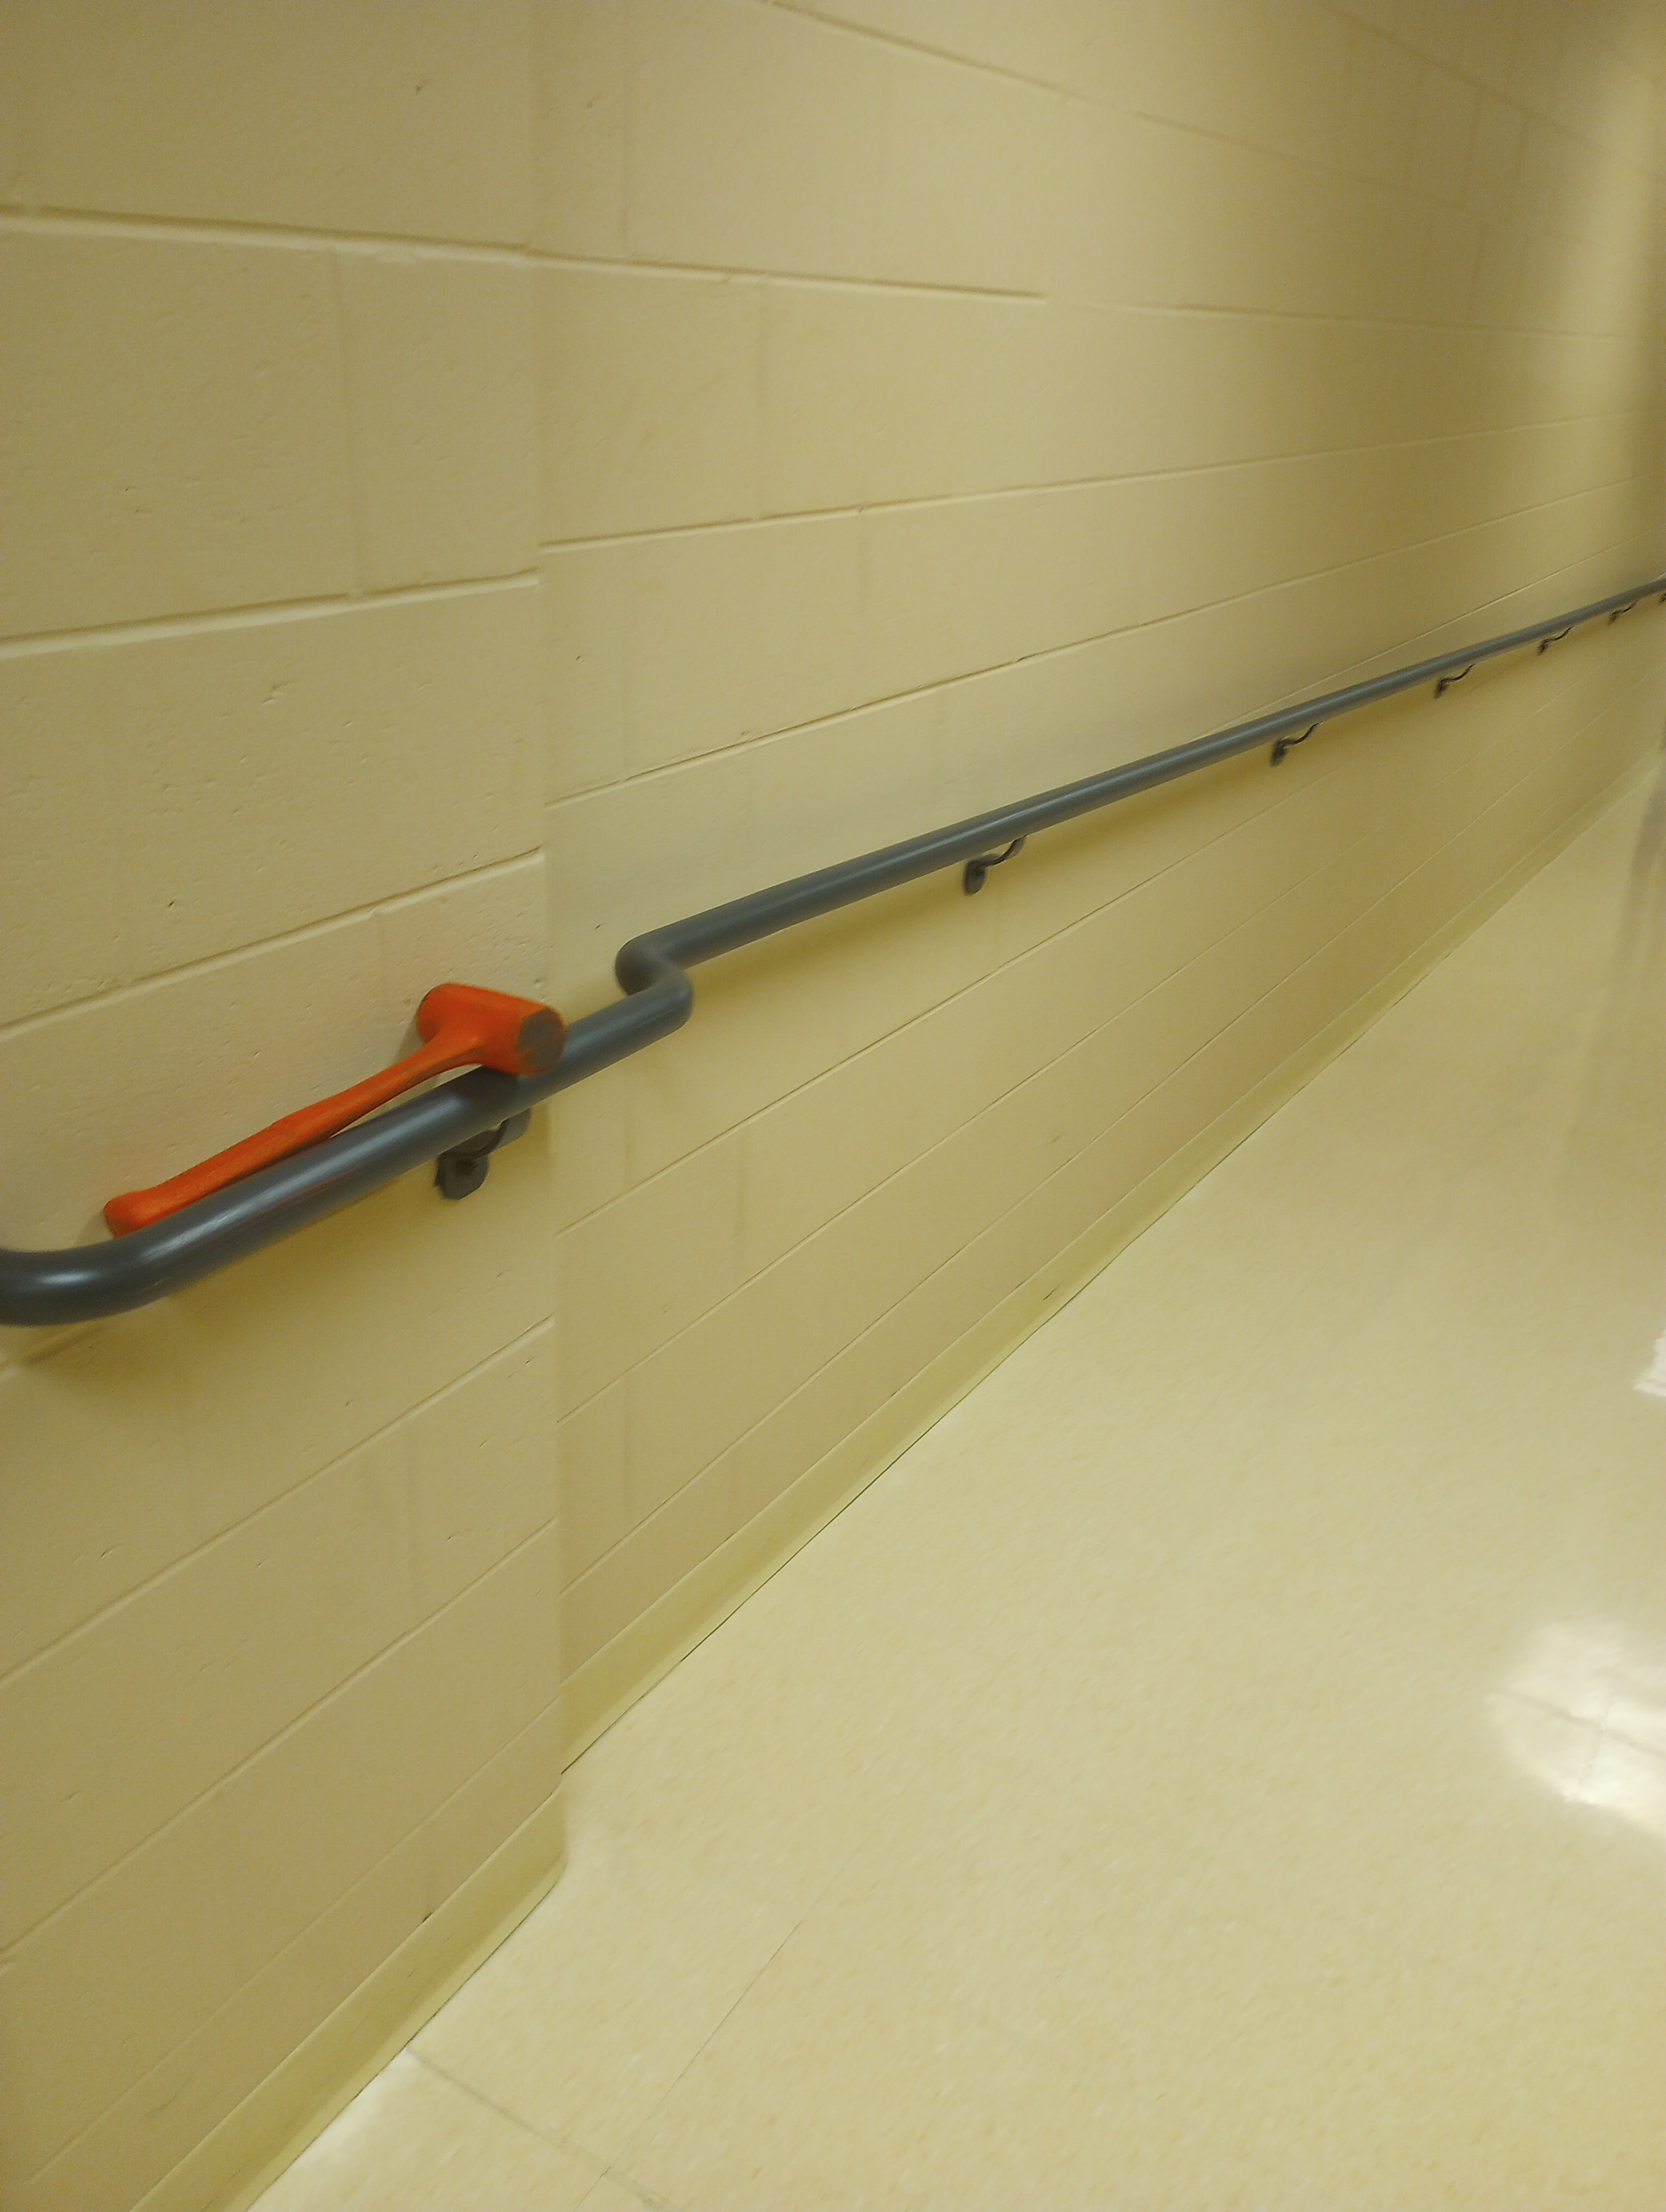bottle: (96, 972, 567, 1249)
